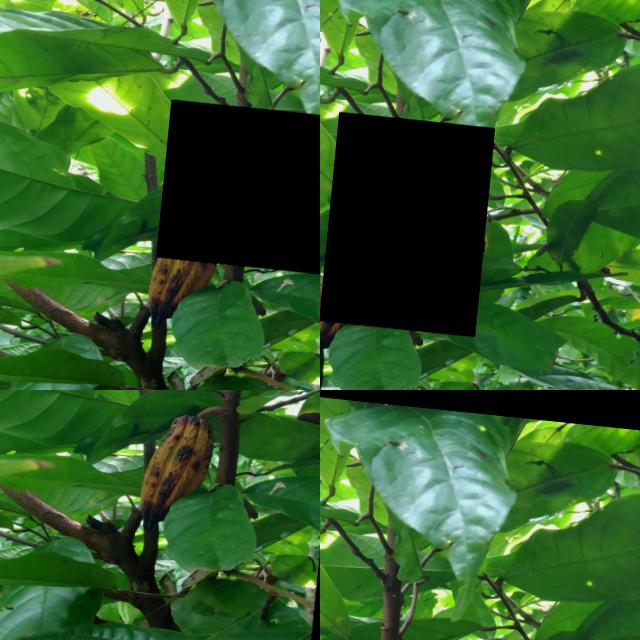Fitoftora: (326, 107, 498, 328), (162, 94, 320, 267)
